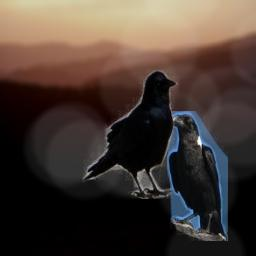Crow: (82, 69, 179, 199), (167, 111, 228, 241)
